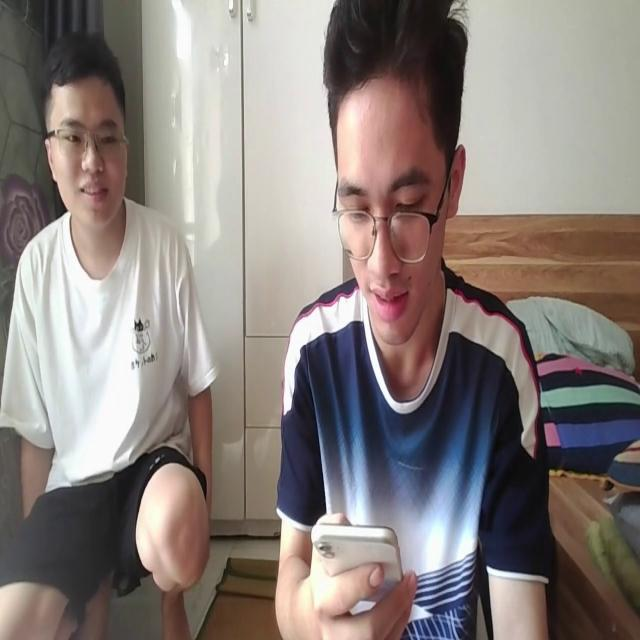extra_person: (0, 19, 220, 640)
phone: (312, 509, 408, 621)
student: (273, 0, 558, 640)
